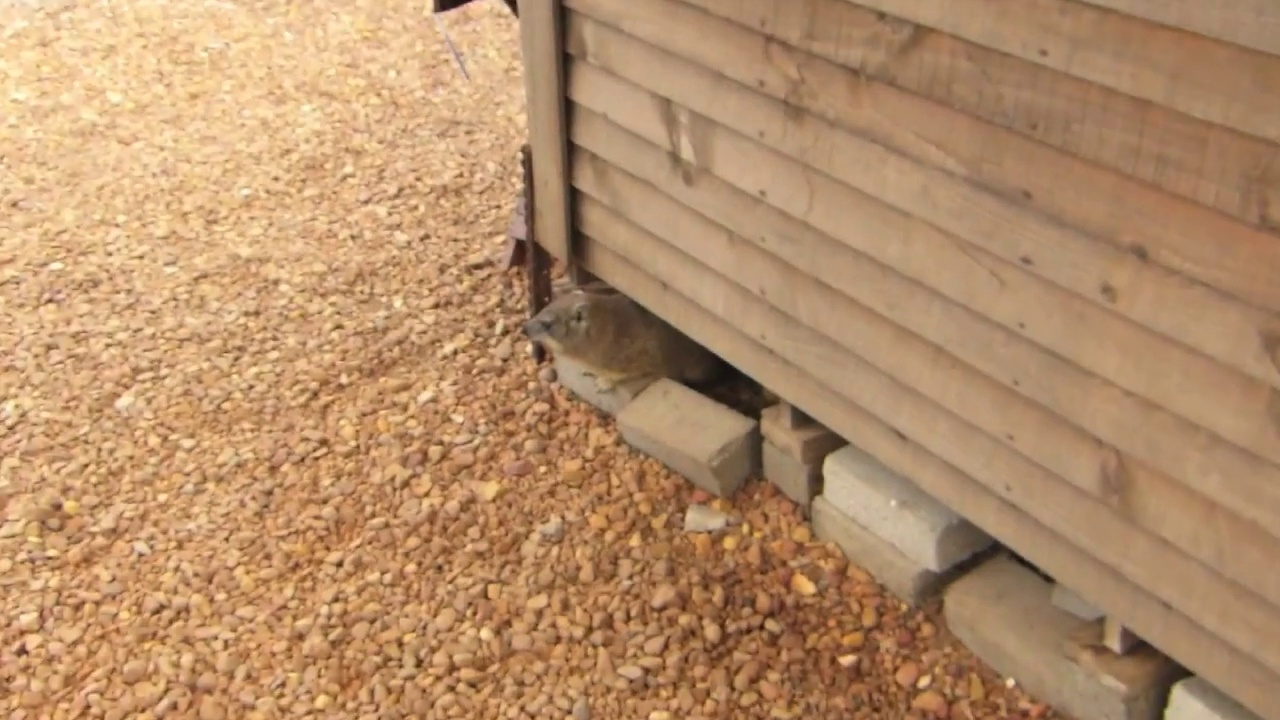Rock Hyrex: (518, 282, 724, 397)
